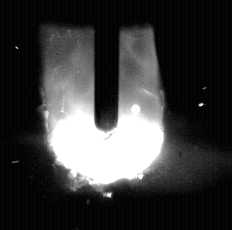arame: (96, 0, 119, 141)
poca: (48, 0, 166, 230)
